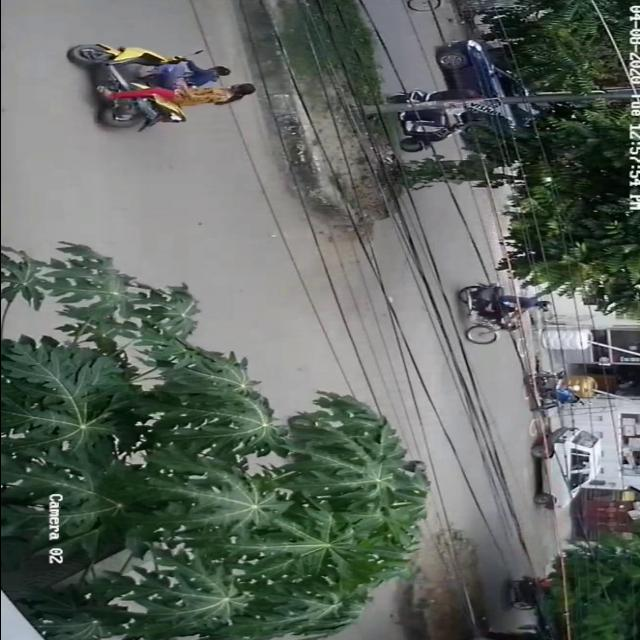accident: (56, 33, 264, 135)
